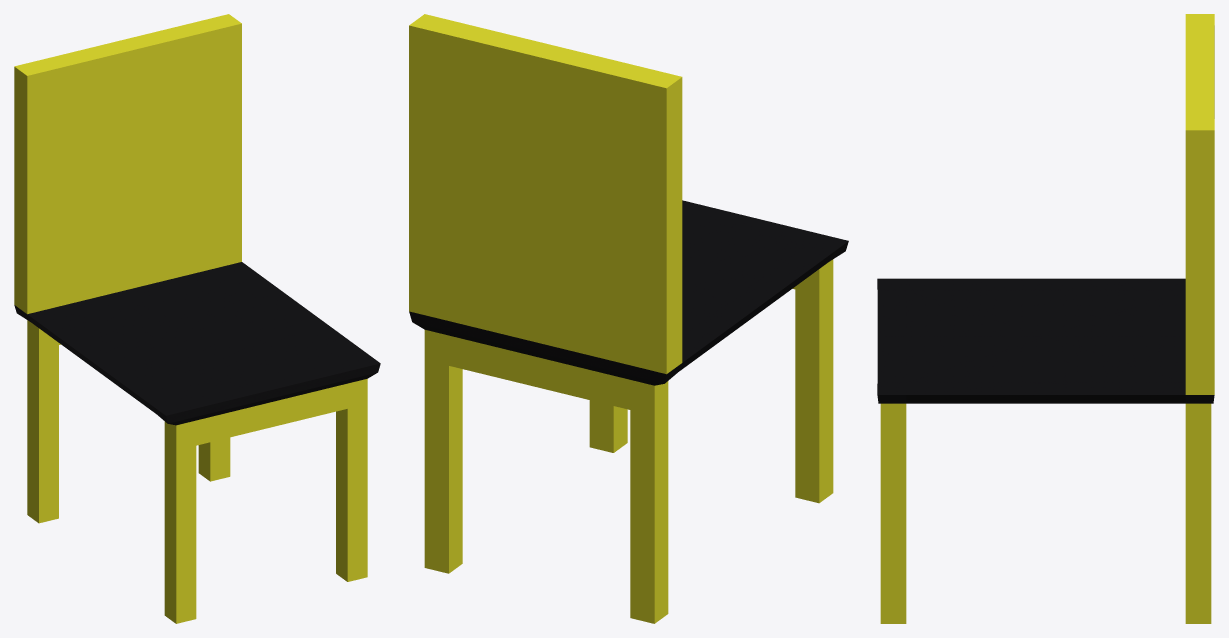
File: chair.fbx
3 renders of one model, left to right at view 1: azimuth 30°, elevation 25°; view 2: azimuth 150°, elevation 25°; view 3: azimuth 270°, elevation 25°, orthographic. The views are drawn at different scales.
Parts seen in each view (by area): view 1: Cube; view 2: Cube; view 3: Cube.
Part boxes in pixels (x1=…): Cube: x1=14, y1=14, x2=380, y2=623; Cube: x1=409, y1=14, x2=848, y2=623; Cube: x1=877, y1=14, x2=1214, y2=623.
Bounding box in the file's own units: 102 × 204 × 125.
